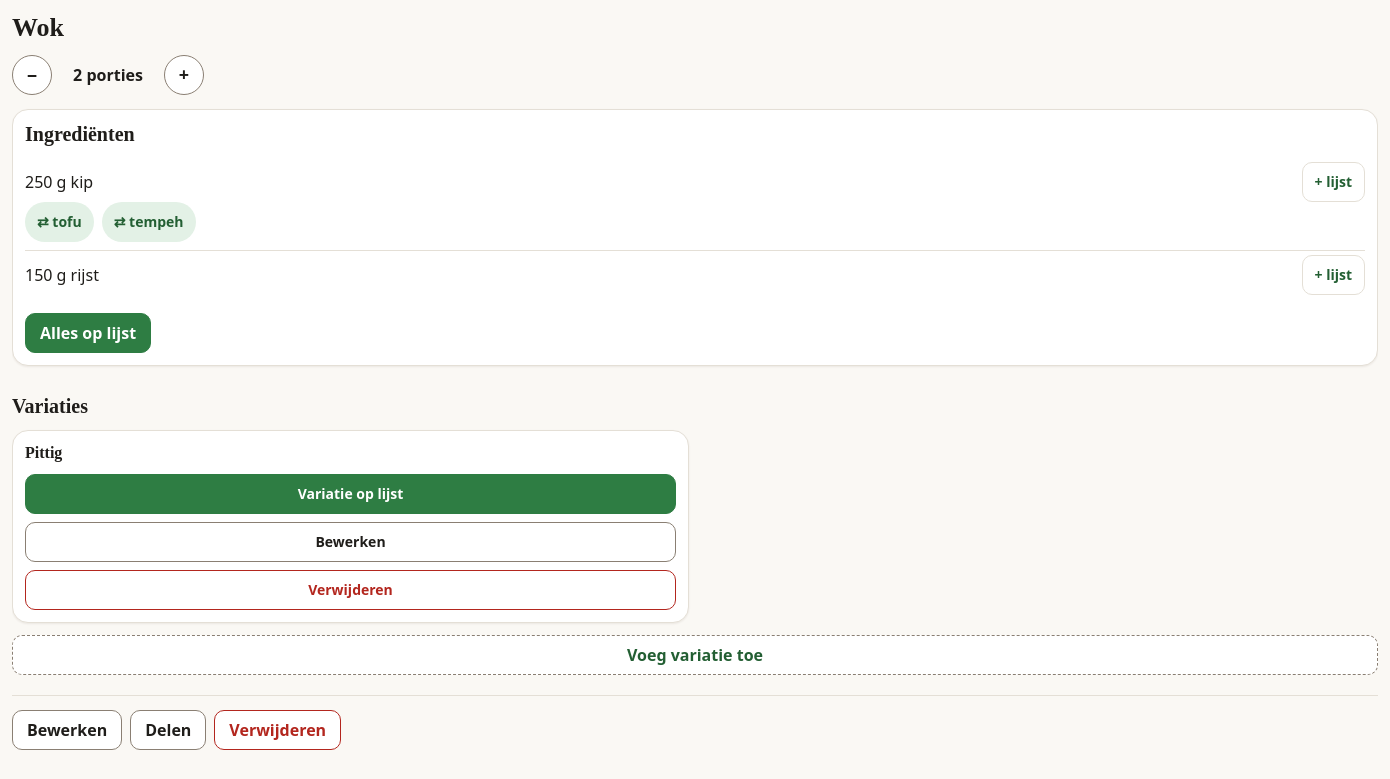
ingrediënt wisselen op de receptpagina › wisselen zet het alternatief in de regel, "↺ kip" terug, en staat in de URL (replace)
Step 1. Click the button "⇄ tempeh" → coordinates (149, 222), box [102, 202, 196, 242]
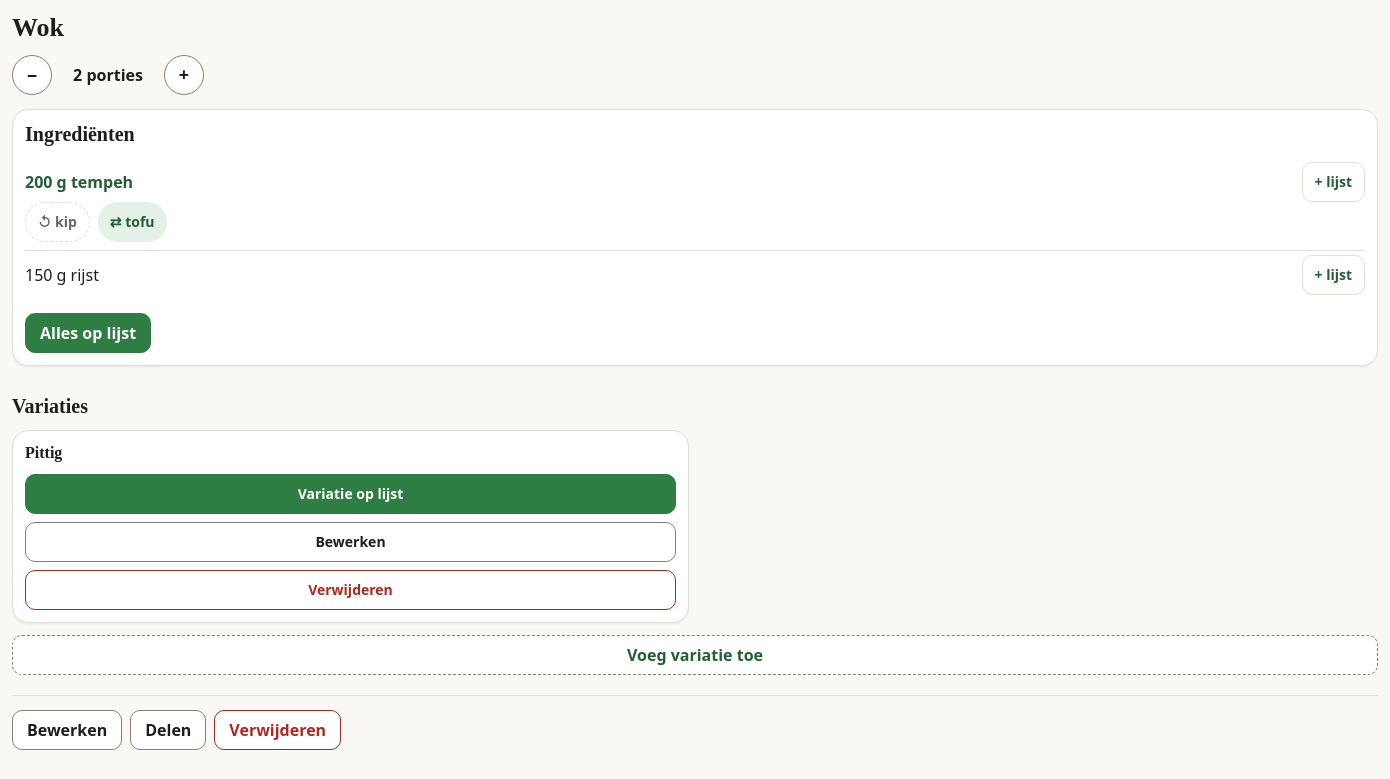
Step 2. Click the button "⇄ tofu" → coordinates (132, 222), box [98, 202, 166, 242]
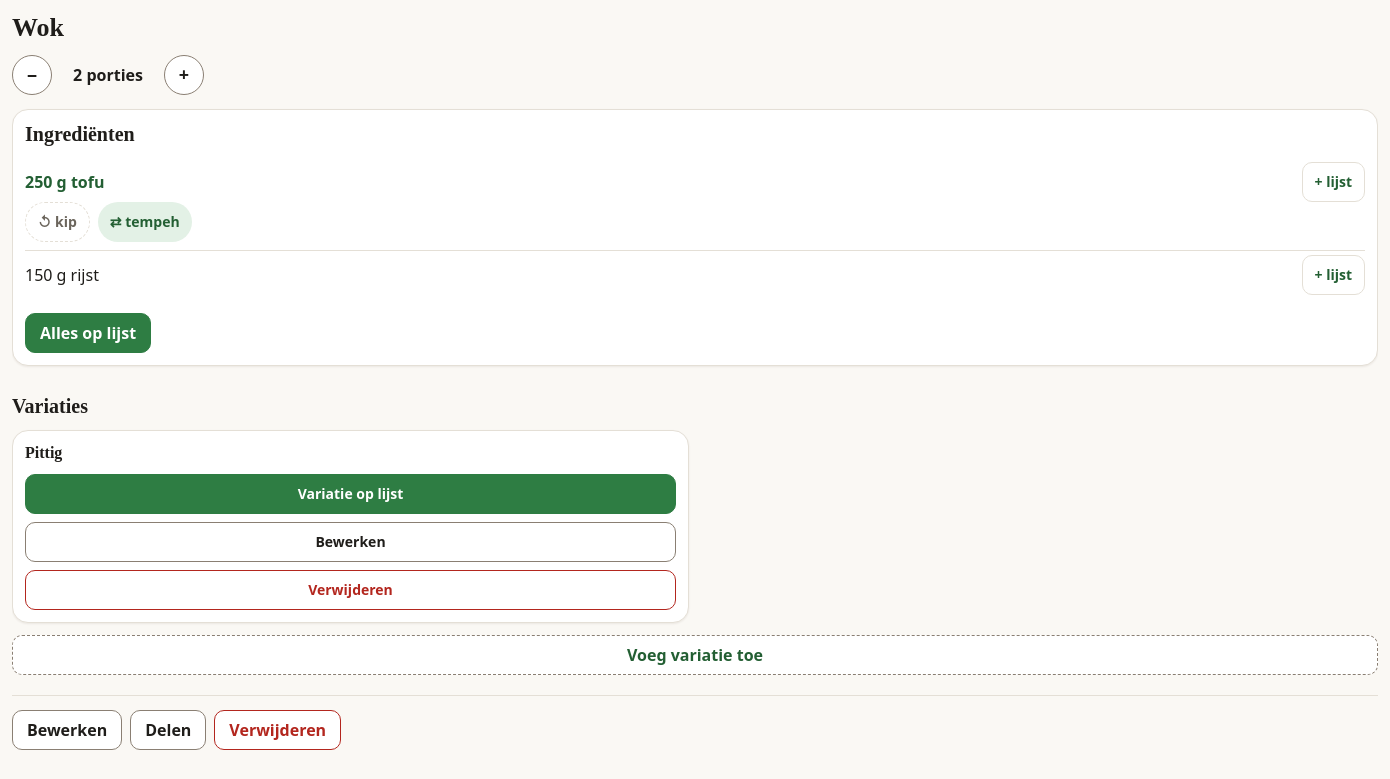
Now the text with class "line" reads "250 g tofu", box [25, 171, 104, 193]
Step 3. Click the button "↺ kip" → coordinates (57, 222), box [25, 202, 90, 242]
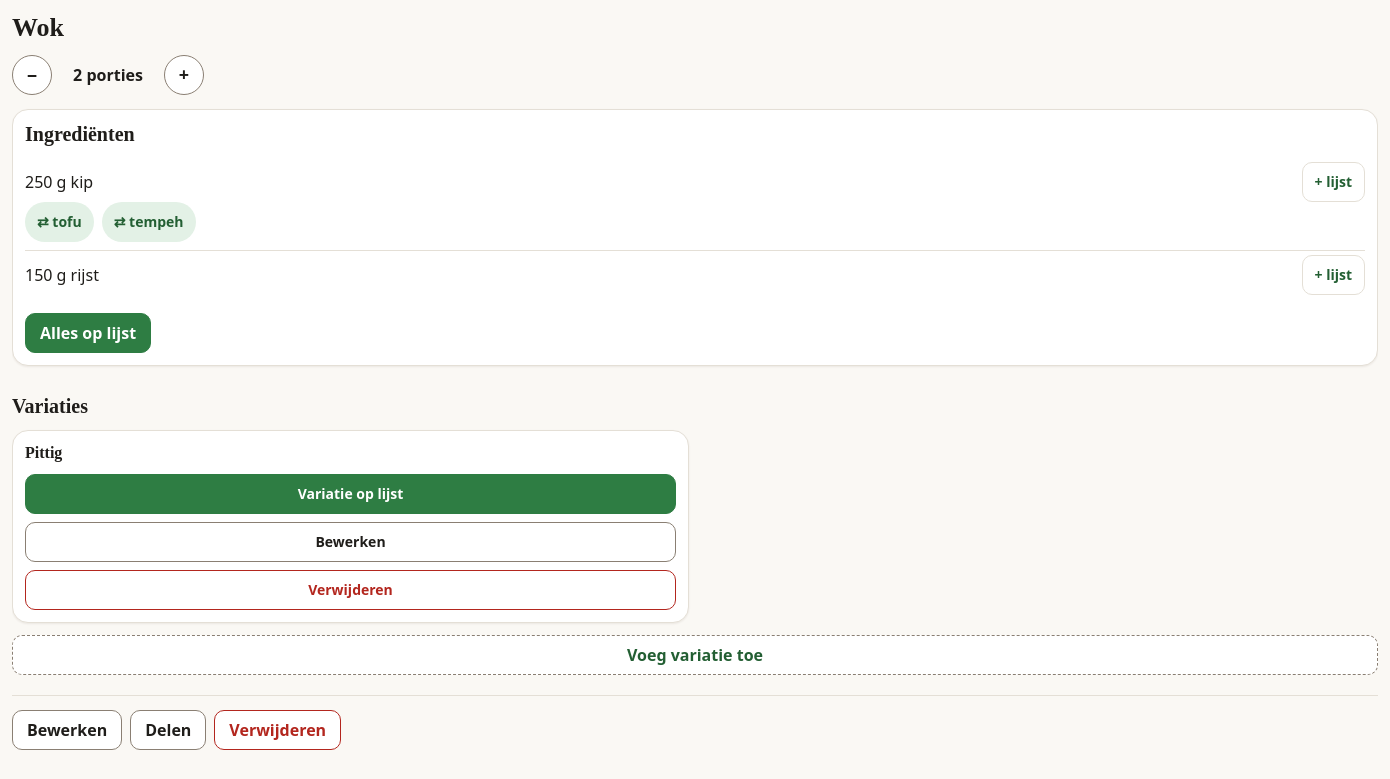
Now the text with class "line" reads "250 g kip", box [25, 171, 93, 193]
